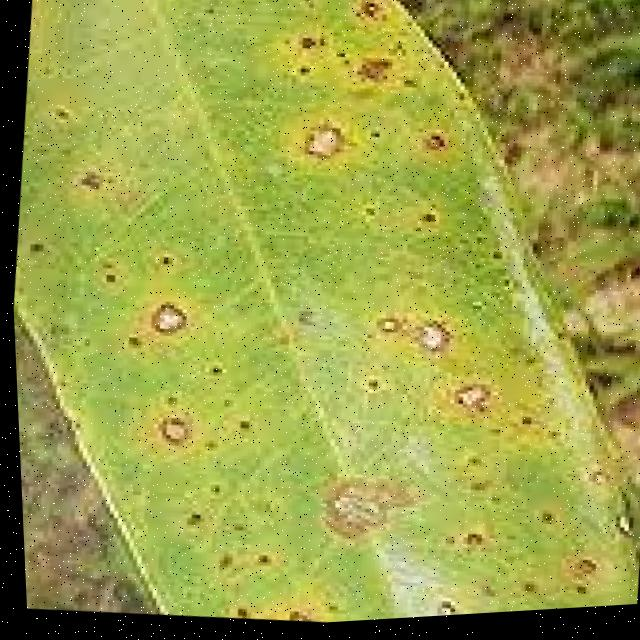Anthracnose: (0, 0, 640, 640), (268, 220, 565, 596), (142, 0, 516, 218), (53, 217, 268, 395)
